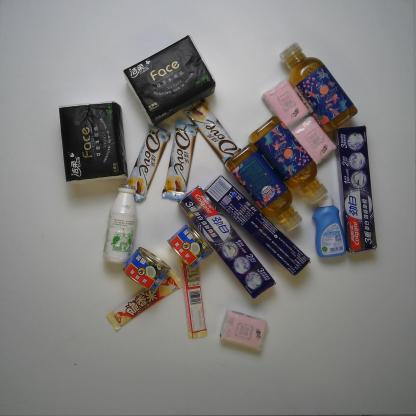Canned Food: (166, 223, 216, 272), (121, 245, 171, 293)
Chocolate: (104, 266, 184, 333), (126, 121, 173, 203), (186, 97, 239, 167), (162, 118, 198, 202), (180, 254, 209, 338)
Drink: (280, 39, 363, 132), (248, 114, 330, 206), (223, 141, 304, 234)
Milk: (105, 180, 136, 265)
Personal Hygiene: (204, 173, 313, 278), (179, 186, 277, 300), (334, 124, 380, 256), (314, 193, 343, 260)
Tissue: (121, 34, 217, 127), (57, 100, 131, 182), (261, 76, 311, 130), (289, 114, 338, 168), (218, 312, 267, 352)
